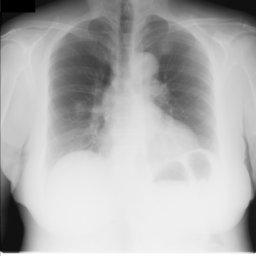left lobe: (142, 16, 213, 147)
right lobe: (50, 18, 115, 152)
